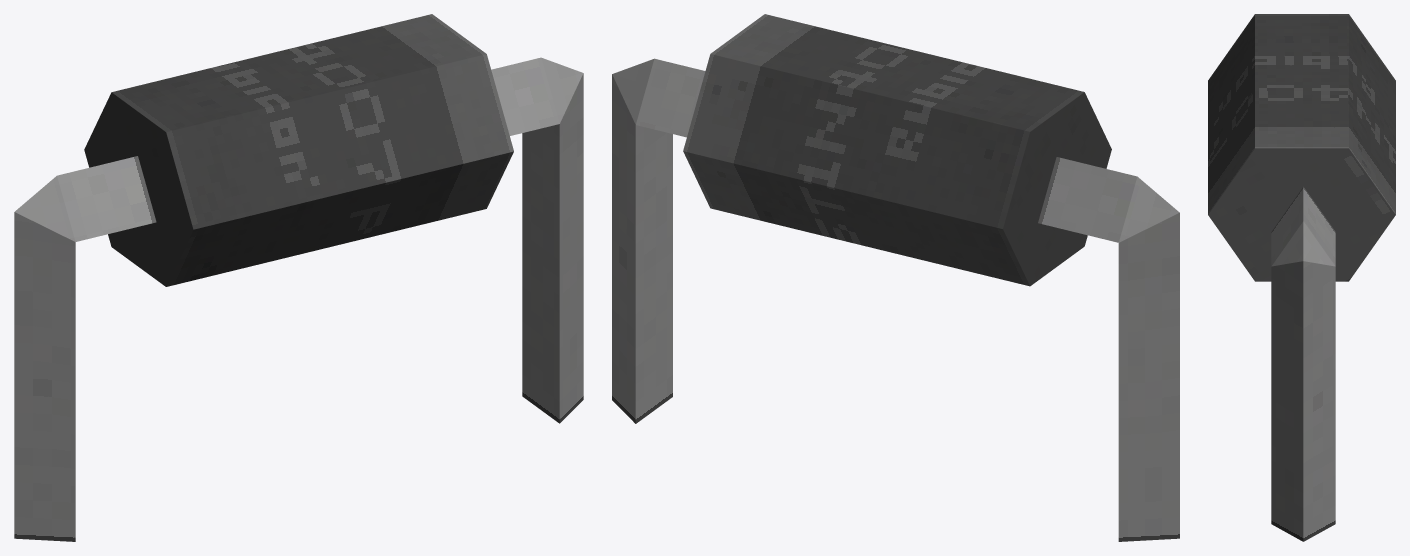
The model's file is Diode.obj.
3 views of the same model, side by side, from view 1: azimuth 30°, elevation 25°; view 2: azimuth 150°, elevation 25°; view 3: azimuth 270°, elevation 25° (orthographic). The views are drawn at different scales.
Parts seen in each view (by area): view 1: Diode_Sphere.012; view 2: Diode_Sphere.012; view 3: Diode_Sphere.012.
Boxes of the visible parts, x1,y1,x2,y2 form: Diode_Sphere.012: [14, 14, 583, 541]; Diode_Sphere.012: [612, 14, 1179, 541]; Diode_Sphere.012: [1208, 14, 1395, 541].
Size of the model in its own units: 0.3804 by 0.2536 by 0.1265.
